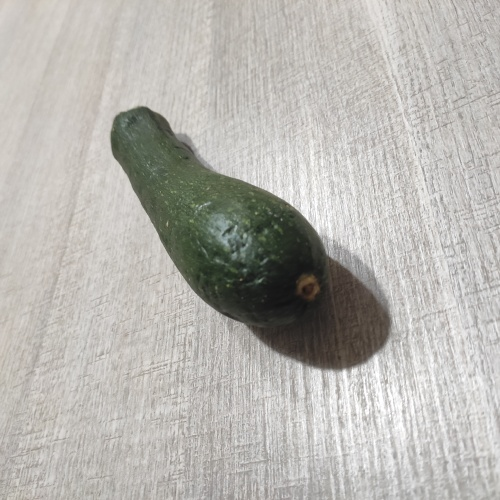zucchine: (109, 113, 334, 325)
